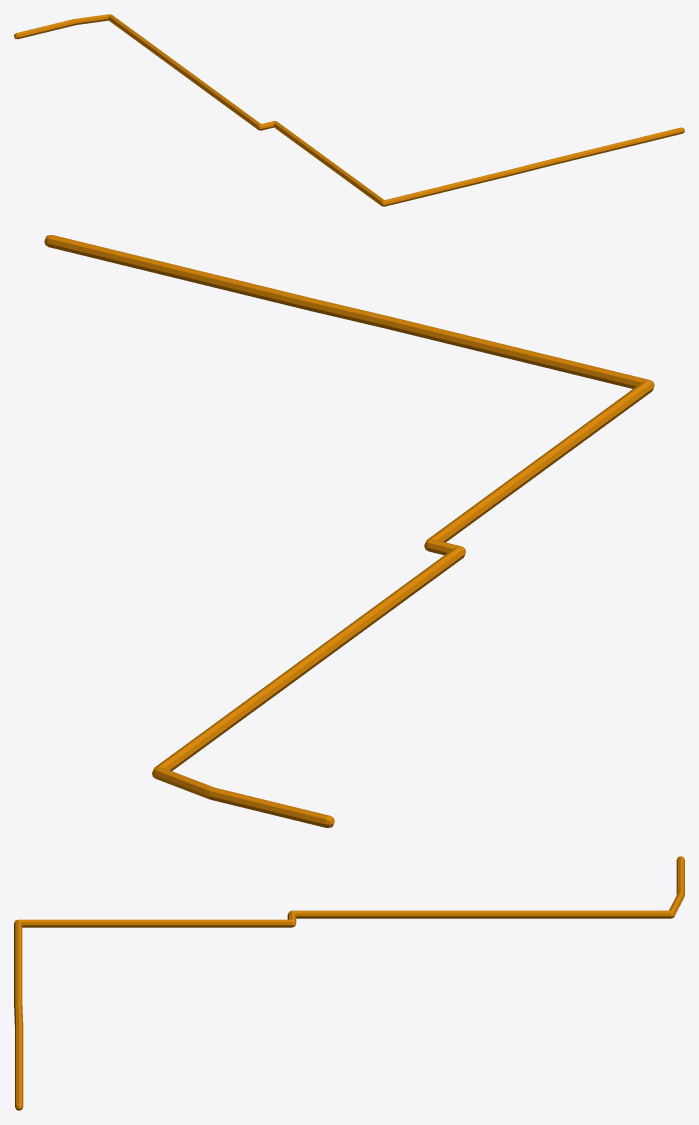
The picture shows the model from 3 angles, top to bottom: view 1: azimuth 30°, elevation 25°; view 2: azimuth 150°, elevation 25°; view 3: azimuth 270°, elevation 25°; orthographic projection. The views are drawn at different scales.
Bounding box in the file's own units: 1406 × 20 × 1593.
